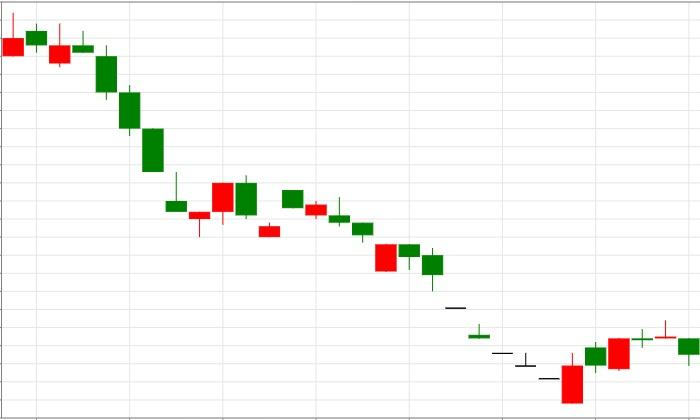morning_star_rise: (72, 31, 234, 237)
